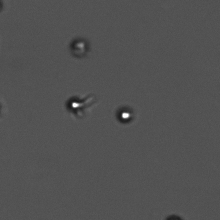Living Cell: (70, 37, 90, 56), (116, 104, 134, 124), (67, 95, 83, 112)
